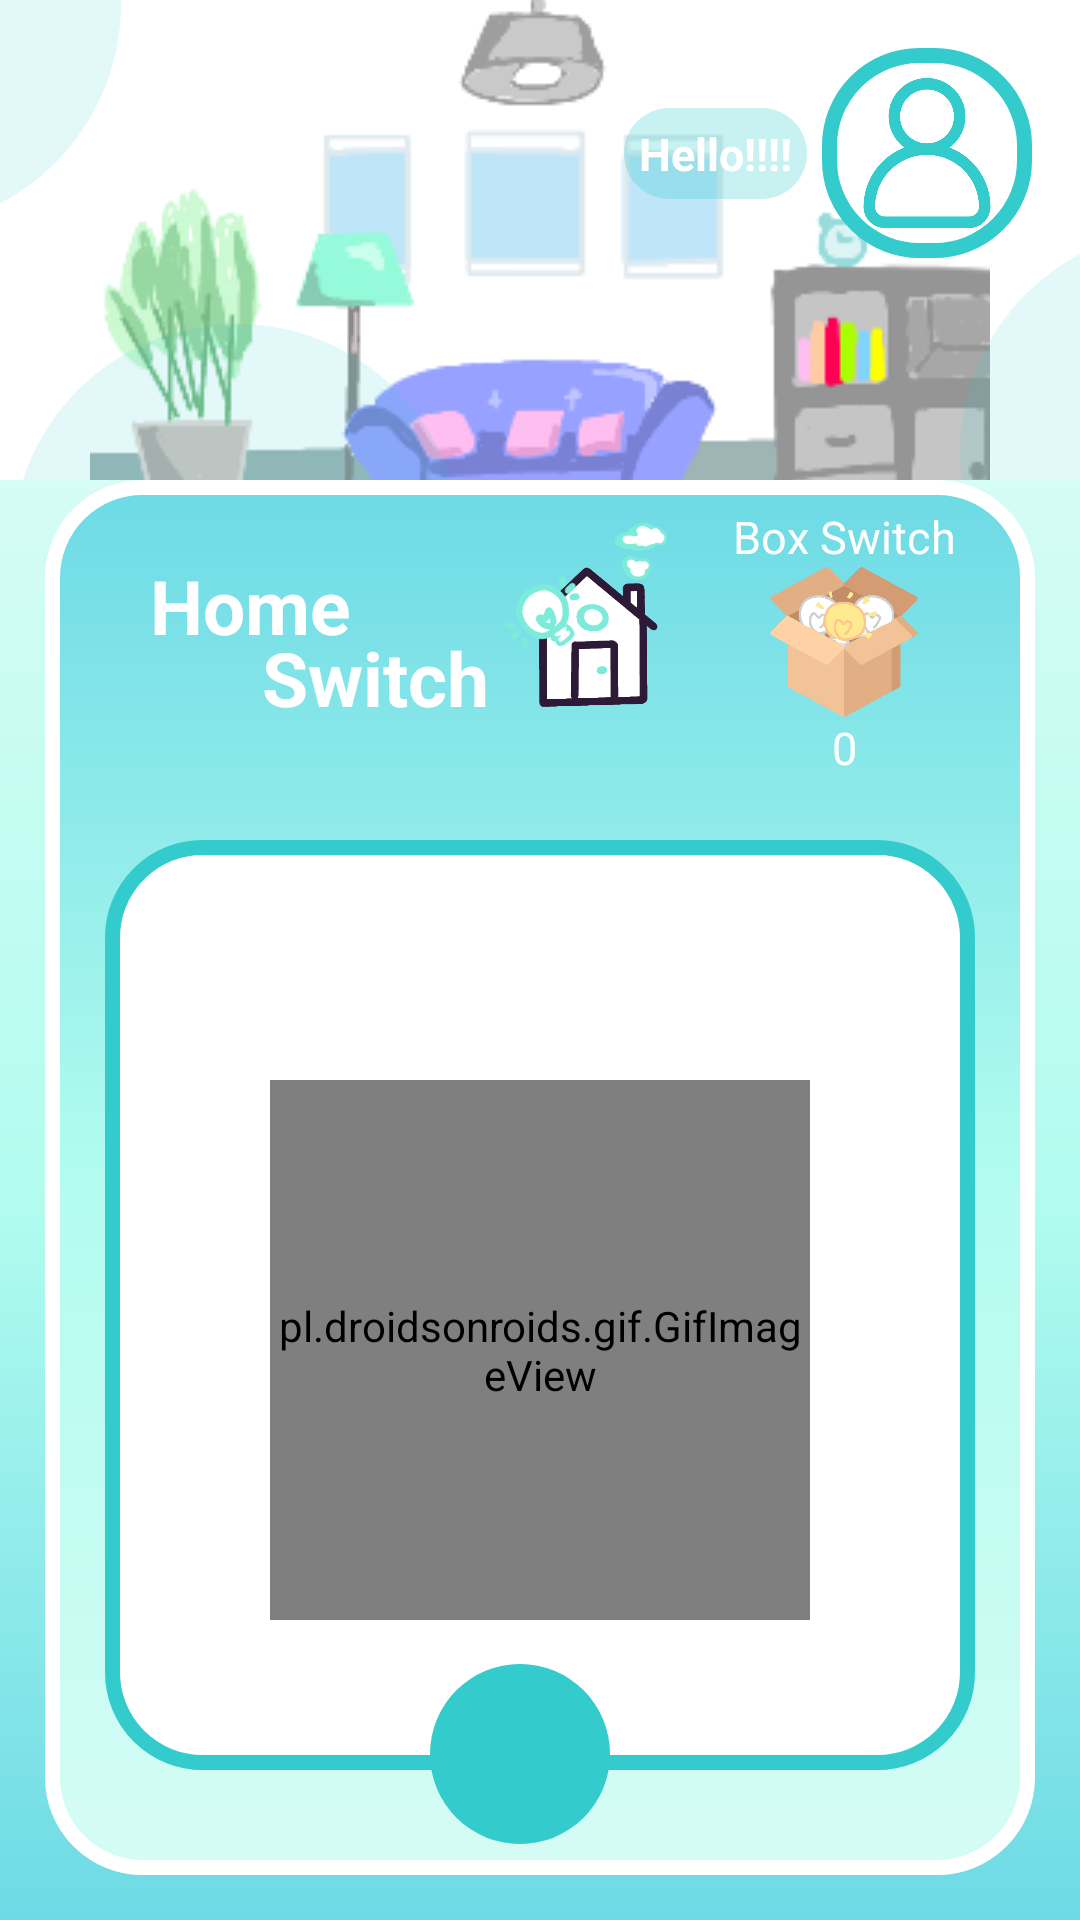

Locate icon controls on the screen. Image size 1080×1920, boxes as {"left": x1, "top": y1, "right": x2, "bottom": y2}.
openbox: {"left": 770, "top": 567, "right": 918, "bottom": 717}
